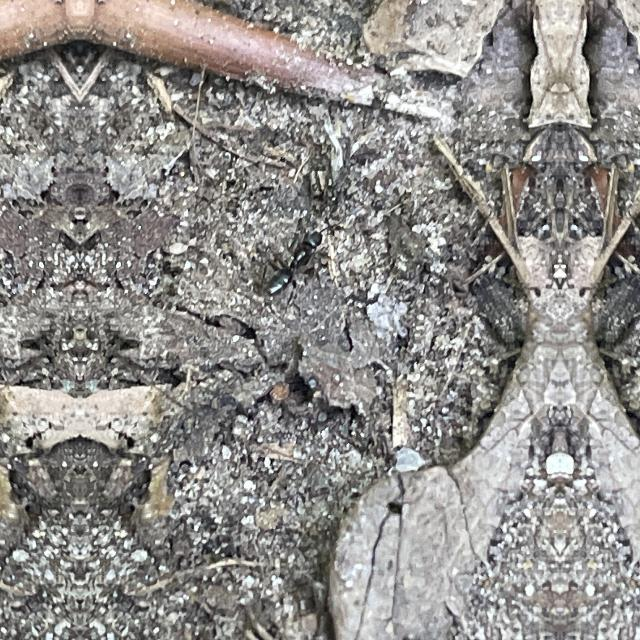Tapinoma: (255, 210, 335, 314)
